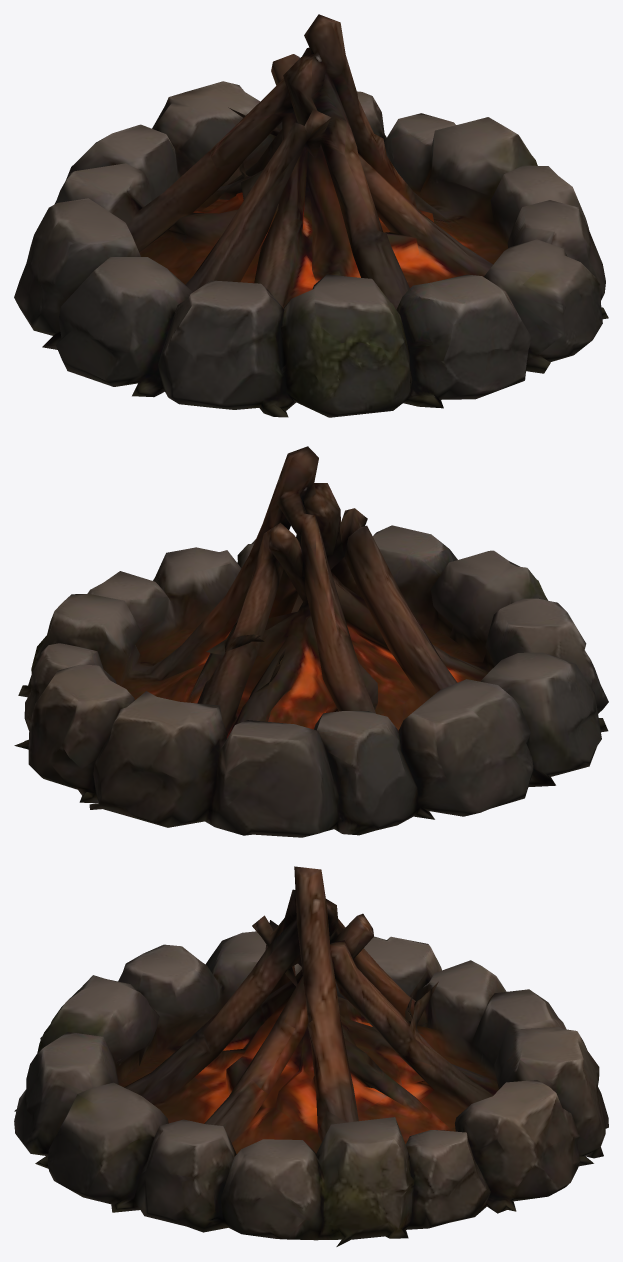
Rendered from campfire.fbx.
3 views of the same model, one above another, from view 1: azimuth 30°, elevation 25°; view 2: azimuth 150°, elevation 25°; view 3: azimuth 270°, elevation 25° (orthographic). The views are drawn at different scales.
Parts seen in each view (by area): view 1: tripo_node_c65e7732; view 2: tripo_node_c65e7732; view 3: tripo_node_c65e7732.
Part boxes in pixels (left/top/right/bottom): tripo_node_c65e7732: left=14, top=14, right=608, bottom=417; tripo_node_c65e7732: left=14, top=446, right=608, bottom=837; tripo_node_c65e7732: left=14, top=866, right=608, bottom=1246.
Size of the model in its own units: 0.9782 by 0.4756 by 0.9765.
